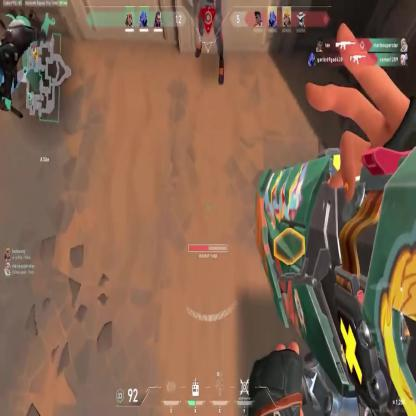enemy: (194, 0, 228, 85)
